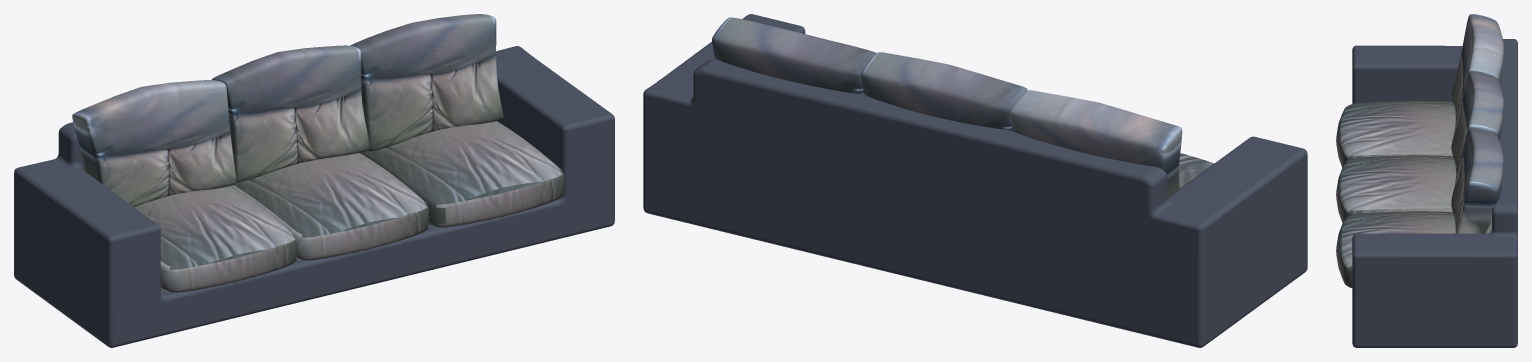
Rendered from couch.fbx.
3 views of the same model, side by side, from view 1: azimuth 30°, elevation 25°; view 2: azimuth 150°, elevation 25°; view 3: azimuth 270°, elevation 25° (orthographic). The views are drawn at different scales.
Parts seen in each view (by area): view 1: Couch_Foundation, couch_BC1, couch_BC2, couch_BC3, couch_C3, couch_C2, couch_C1; view 2: Couch_Foundation, couch_BC1, couch_BC2, couch_BC3, couch_C1; view 3: Couch_Foundation, couch_C2, couch_C1, couch_BC3, couch_C3, couch_BC2, couch_BC1.
Part boxes in pixels (bbox=[...]): Couch_Foundation: bbox=[14, 46, 614, 347]; couch_BC1: bbox=[72, 80, 236, 206]; couch_BC2: bbox=[211, 45, 371, 182]; couch_BC3: bbox=[350, 14, 503, 151]; couch_C3: bbox=[360, 121, 564, 227]; couch_C2: bbox=[230, 153, 429, 260]; couch_C1: bbox=[134, 186, 297, 292]; Couch_Foundation: bbox=[643, 14, 1307, 347]; couch_BC1: bbox=[1010, 90, 1182, 197]; couch_BC2: bbox=[861, 52, 1027, 130]; couch_BC3: bbox=[712, 17, 876, 94]; couch_C1: bbox=[1178, 153, 1213, 188]; Couch_Foundation: bbox=[1352, 39, 1517, 347]; couch_C2: bbox=[1336, 155, 1456, 222]; couch_C1: bbox=[1336, 100, 1455, 167]; couch_BC3: bbox=[1451, 127, 1503, 233]; couch_C3: bbox=[1336, 211, 1455, 287]; couch_BC2: bbox=[1451, 70, 1504, 202]; couch_BC1: bbox=[1451, 14, 1504, 146].
Size of the model in its own units: 7.53 by 2.55 by 2.75.
